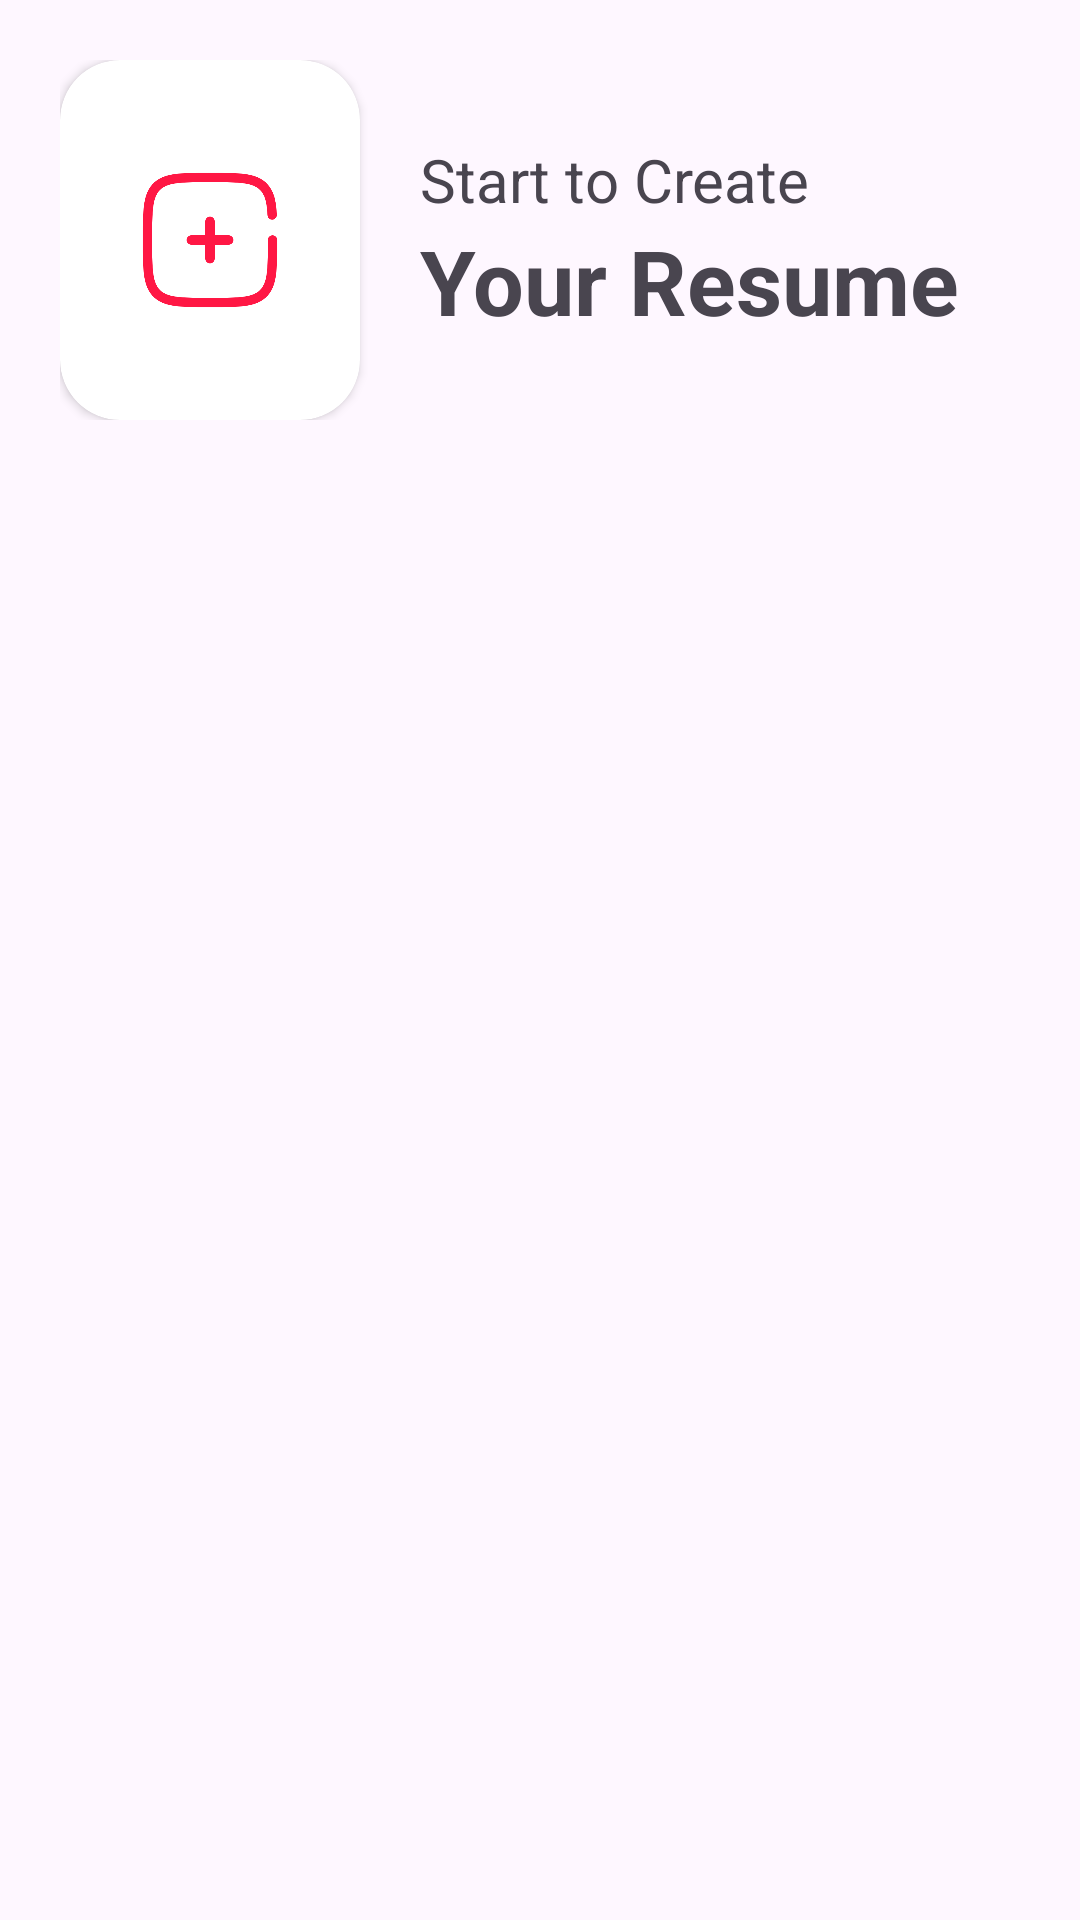

Icons on this 1080px x 1920px Android screen, each with the point to tap as (x=x, y=y):
add squire: (x=210, y=240)
